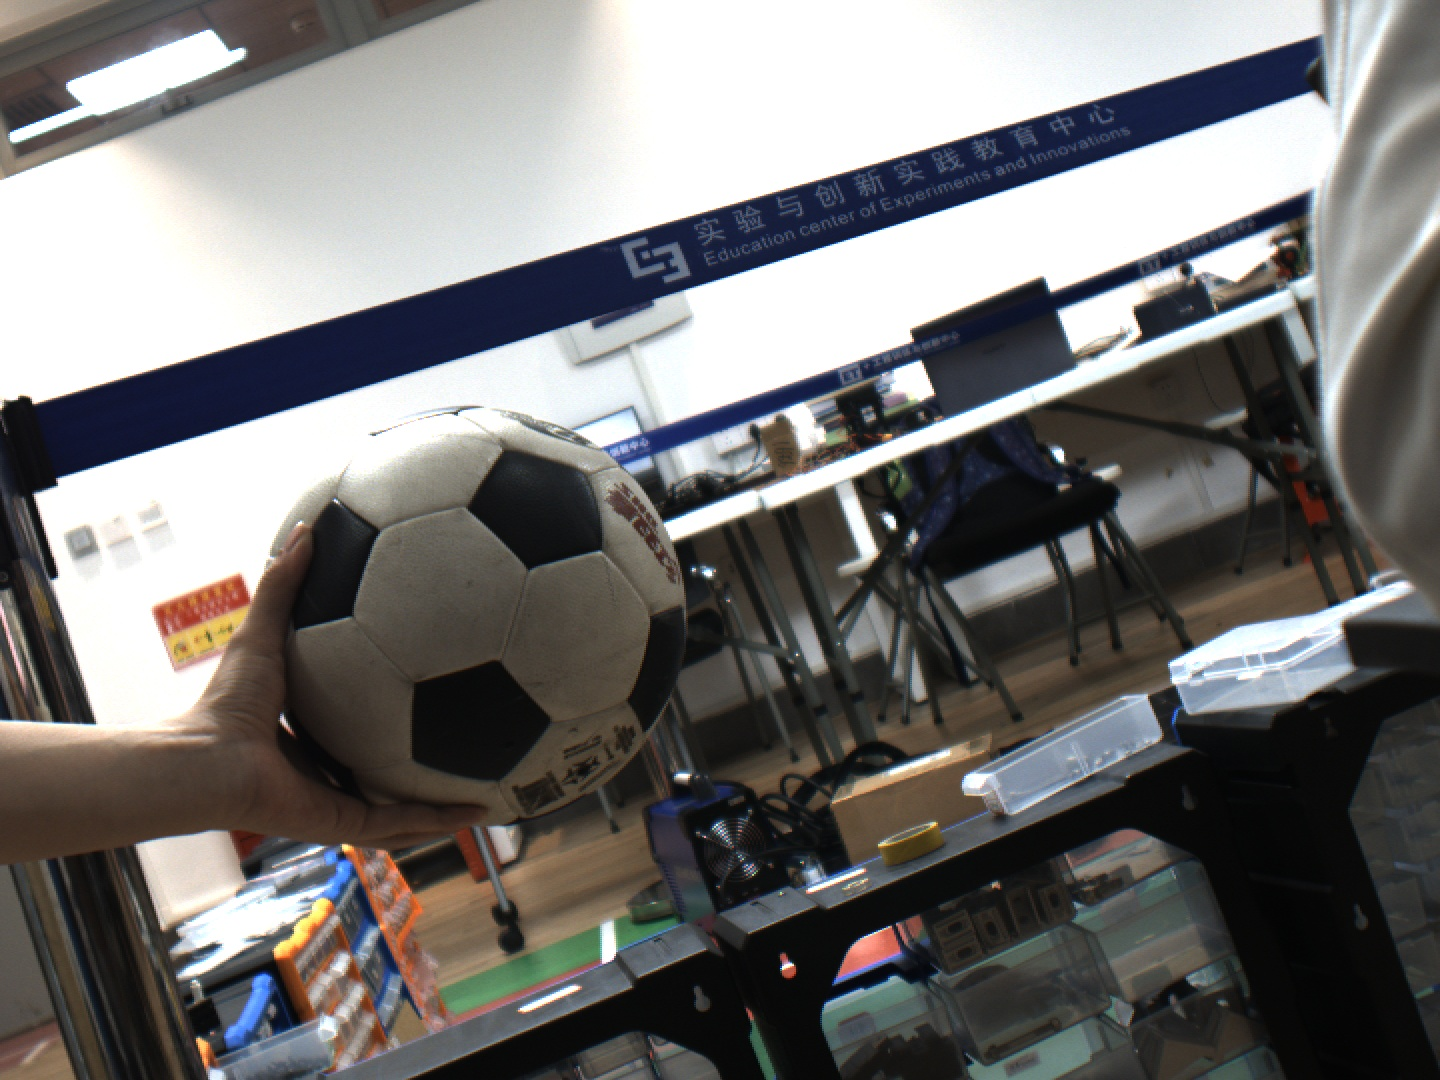ball: (242, 388, 703, 834)
